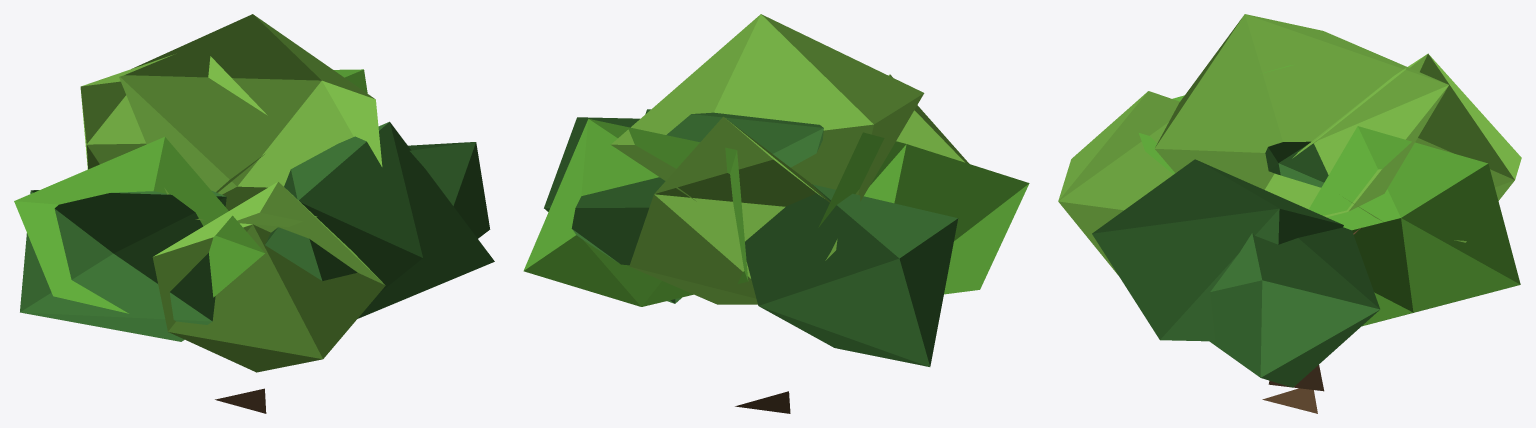
File: tree_oak_1_lod2.glb
3 renders of one model, left to right at view 1: azimuth 30°, elevation 25°; view 2: azimuth 150°, elevation 25°; view 3: azimuth 270°, elevation 25°, orthographic.
Visible parts, largest first — view 1: tree_oak_1_lod2; view 2: tree_oak_1_lod2; view 3: tree_oak_1_lod2.
Boxes of the visible parts, <box> form: tree_oak_1_lod2: <box>14,14,494,413</box>; tree_oak_1_lod2: <box>523,14,1029,413</box>; tree_oak_1_lod2: <box>1058,14,1521,413</box>.
Size of the model in its own units: 8.73 by 7.19 by 7.98.
